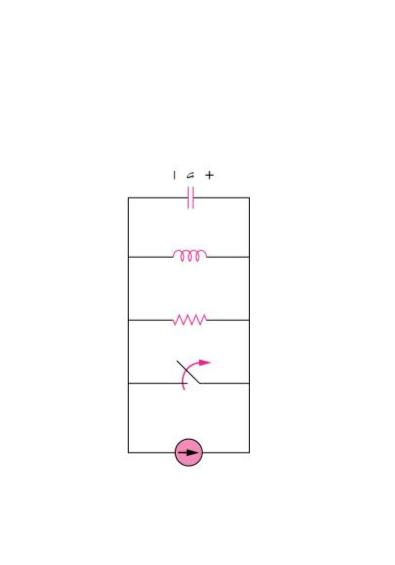resistor: (164, 295, 222, 336)
